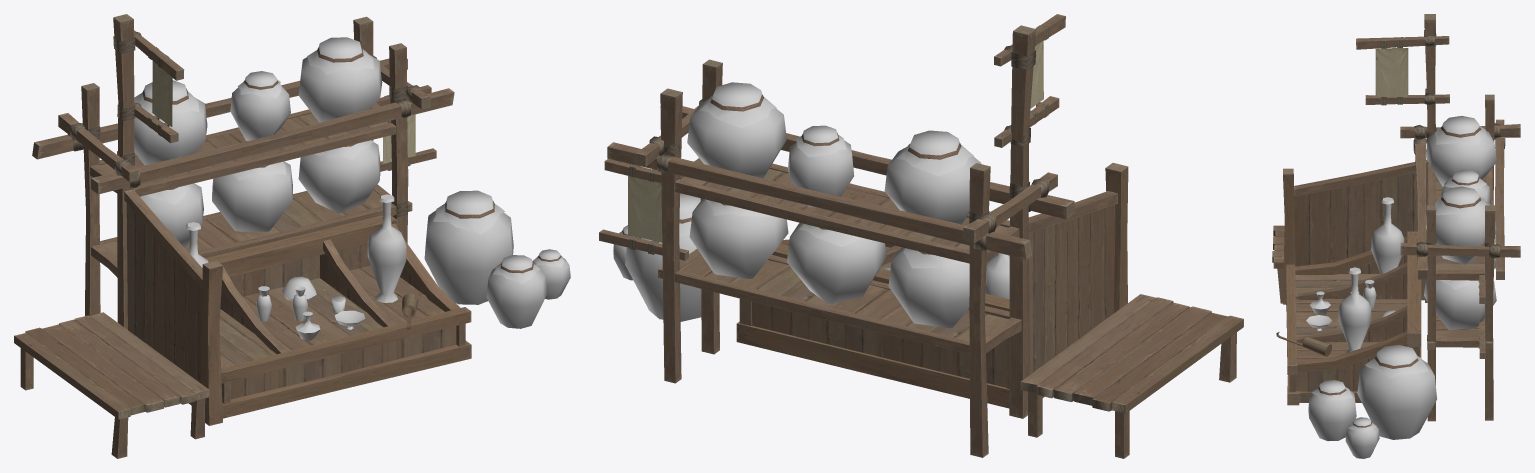
Rendered from Homeworld_Exterior_Ly_Decoration_Junk_04_Lod0.fbx.
The picture shows the model from 3 angles, left to right: view 1: azimuth 30°, elevation 25°; view 2: azimuth 150°, elevation 25°; view 3: azimuth 270°, elevation 25°; orthographic projection. The views are drawn at different scales.
Parts seen in each view (by area): view 1: Area_Ly_Prop_Common_Varia_B_06_Lod0; view 2: Area_Ly_Prop_Common_Varia_B_06_Lod0; view 3: Area_Ly_Prop_Common_Varia_B_06_Lod0.
Part boxes in pixels (bbox=[...]): Area_Ly_Prop_Common_Varia_B_06_Lod0: bbox=[14, 14, 570, 458]; Area_Ly_Prop_Common_Varia_B_06_Lod0: bbox=[599, 14, 1243, 458]; Area_Ly_Prop_Common_Varia_B_06_Lod0: bbox=[1272, 14, 1520, 458].
Bounding box in the file's own units: 5.44 × 3.63 × 2.81.
